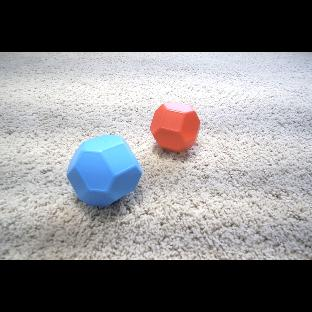V5_BLUE: (67, 134, 141, 207)
V5_RED: (151, 101, 200, 154)
